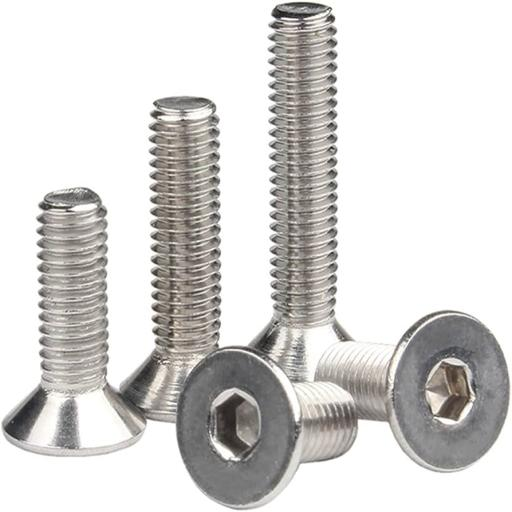Hex-Allen: (177, 347, 303, 511), (389, 308, 509, 474)
